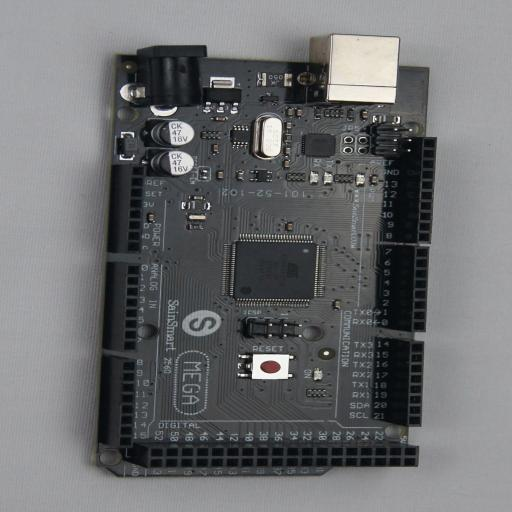Arduino Mega 2560 -Black-: (82, 38, 436, 478)
